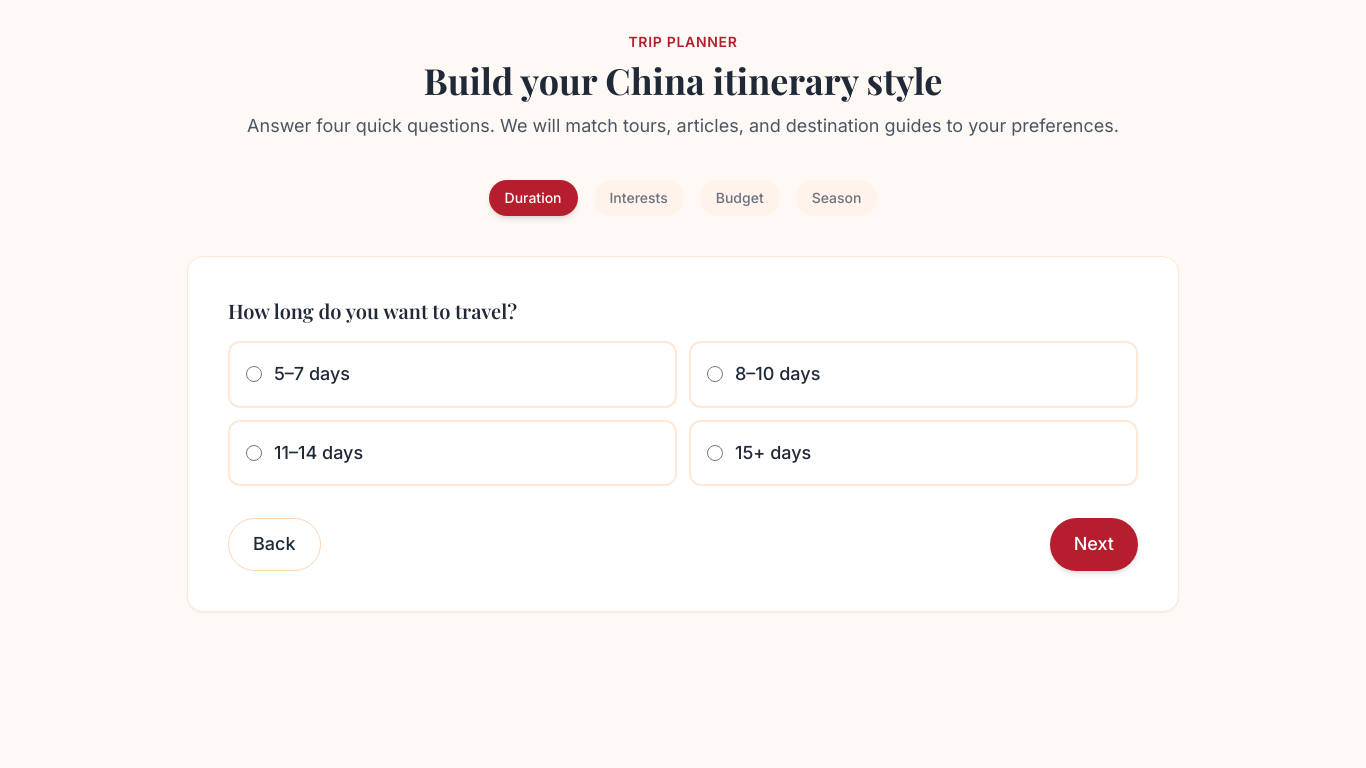
TripPlanner component › advances from duration to interests
This screenshot has width=1366, height=768.
Click the radio button labelled "8–10 days": {"x": 715, "y": 374} top-left (707, 366), bottom-right (723, 382)
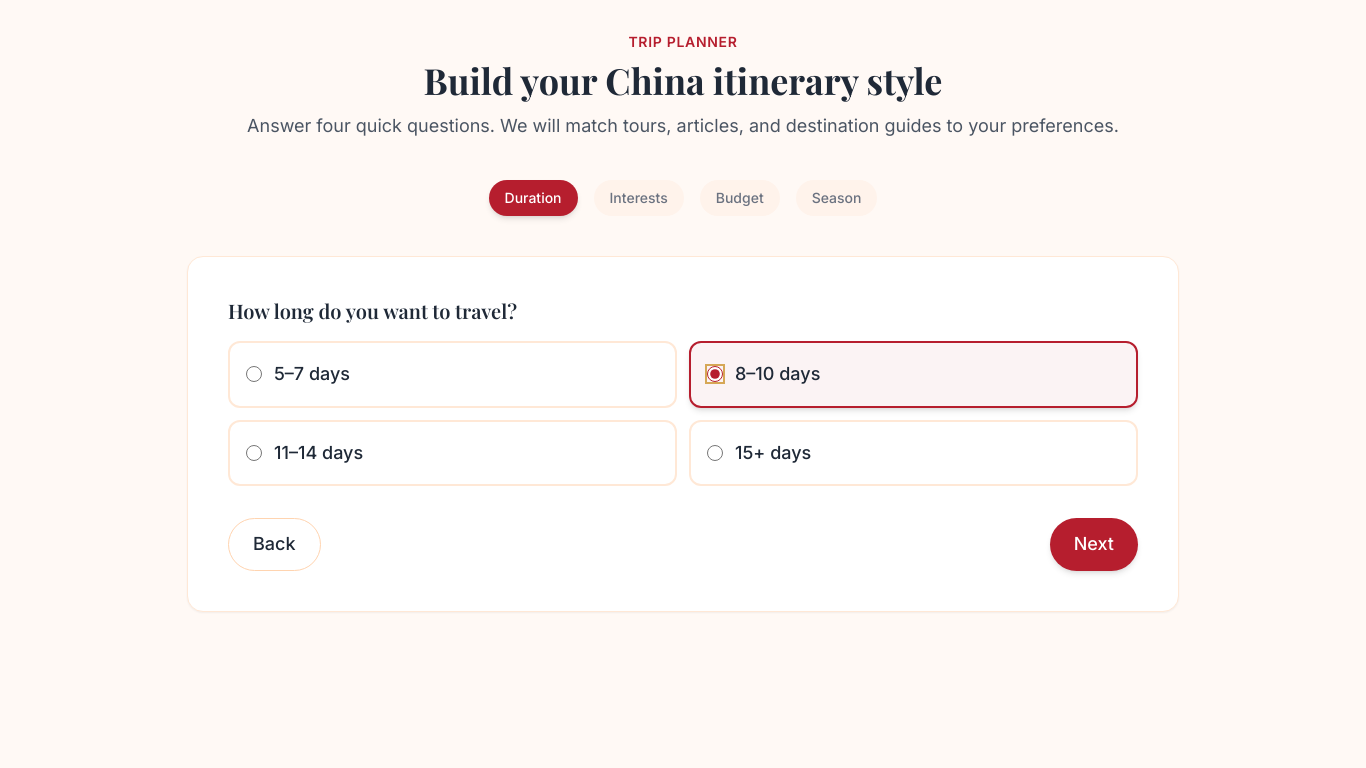
Click the button "Next": {"x": 1094, "y": 544} top-left (1050, 518), bottom-right (1138, 571)
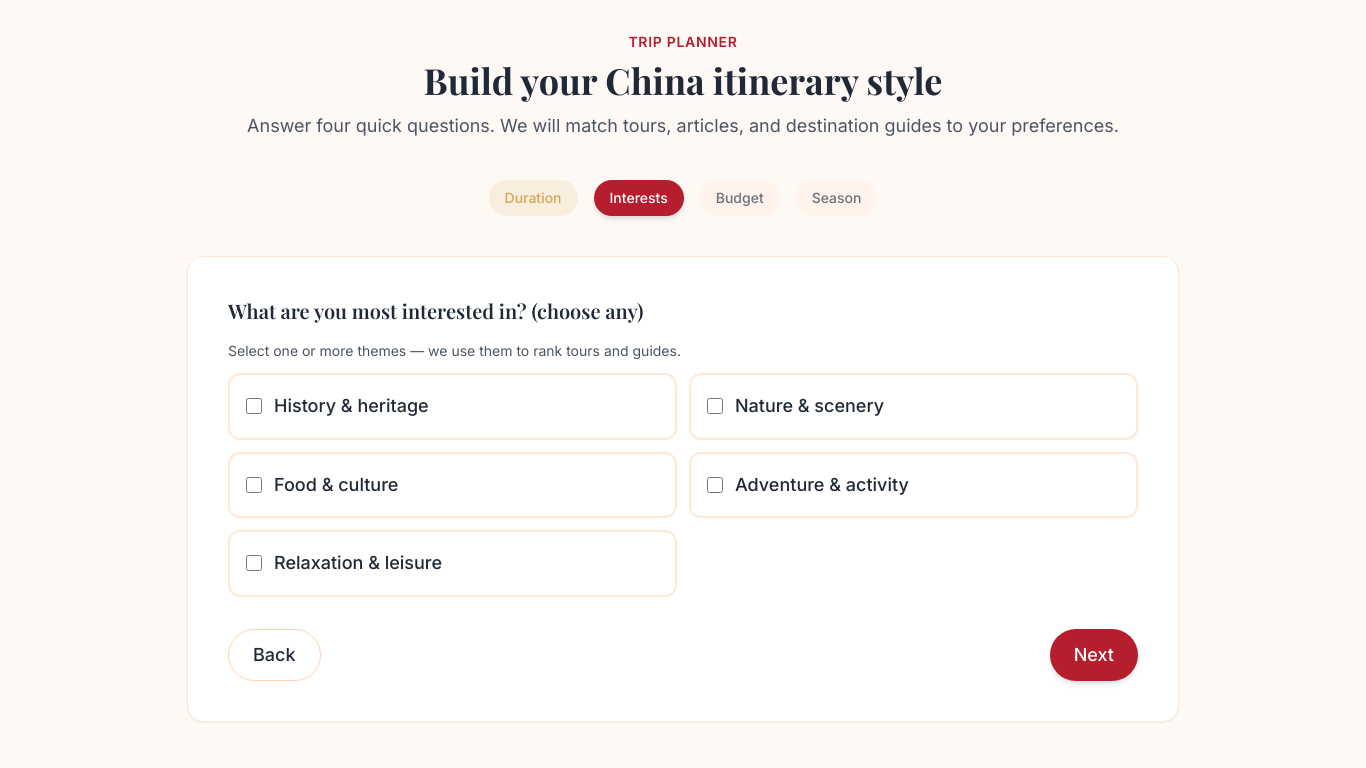
Now the text "What are you most interested in? (choose any)" is shown, box top-left (228, 297), bottom-right (644, 325)
